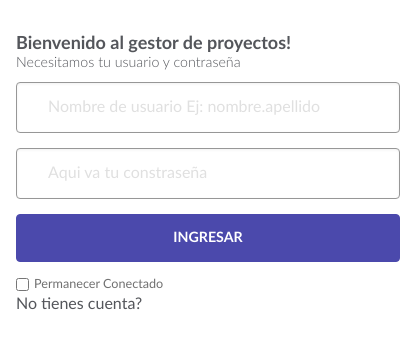
Login › should display required input texts when click submit
The image size is (417, 346).
Step 1. Click the button → (208, 238), box x1=16 y1=214 x2=400 y2=262
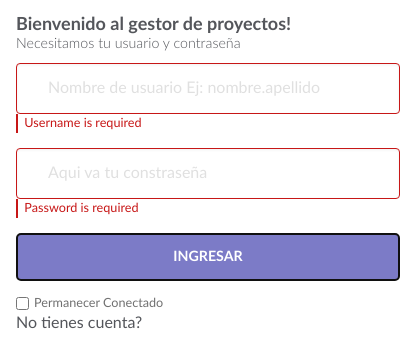
Check: the text "Username is required" is shown, box x1=16 y1=114 x2=400 y2=133
Check: the text "Password is required" is shown, box x1=16 y1=199 x2=400 y2=218
